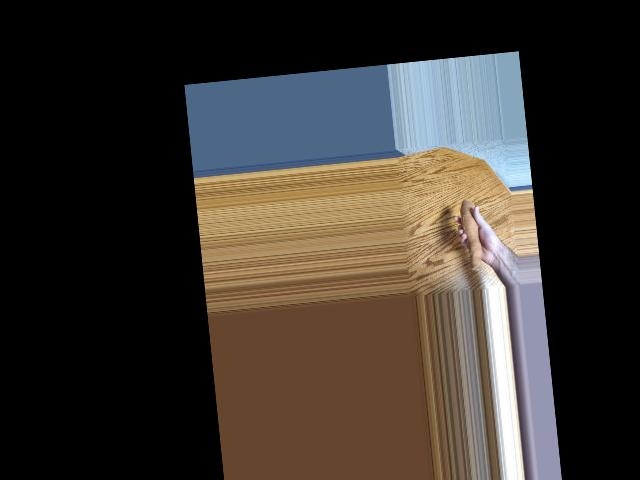sweet_potato: (456, 191, 492, 274)
